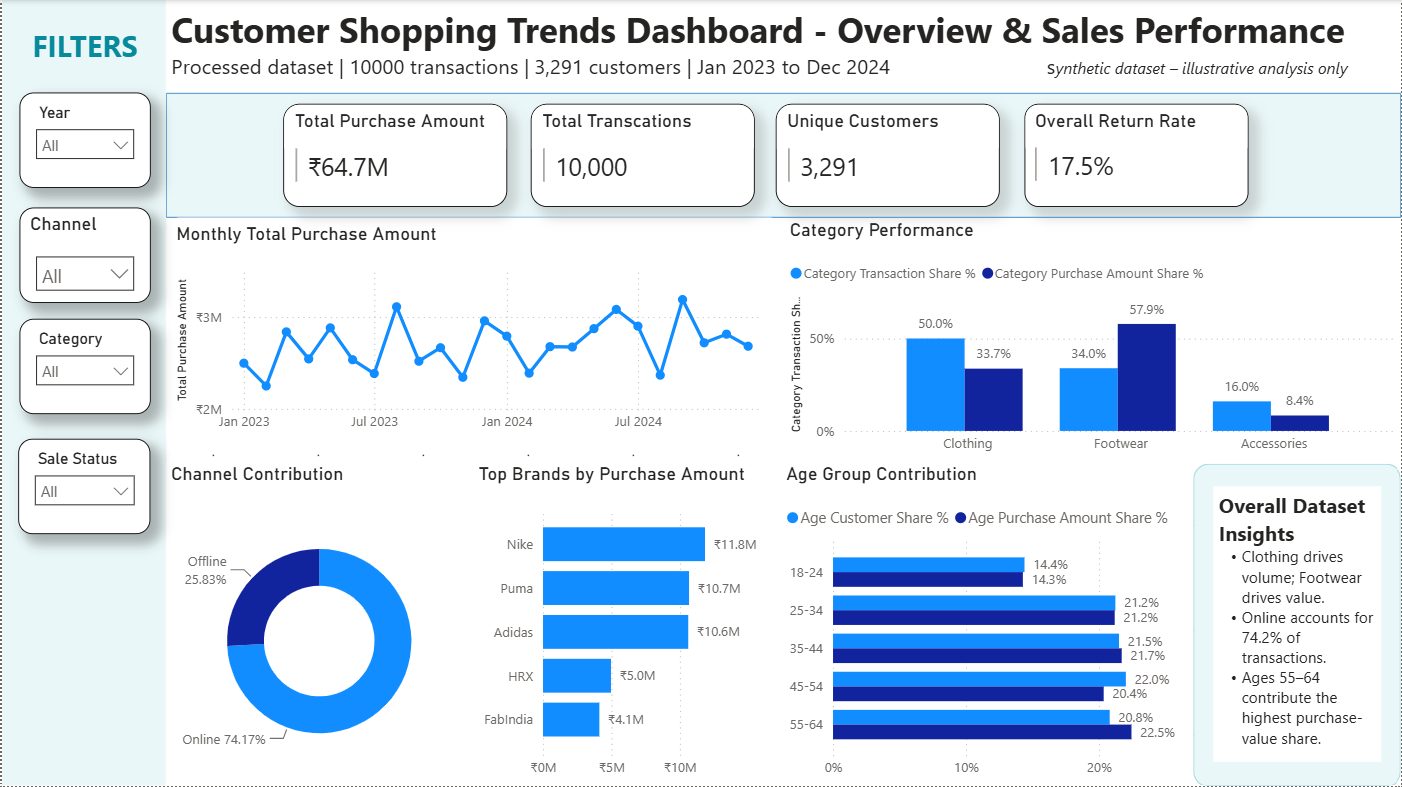

Layout of this report page (visuals, bound fields, positions):
{"tool":"powerbi","page":{"name":"Overview & Sales Performance","canvas":[1280,720],"ordinal":0},"visuals":[{"type":"shape","box":[149.6,84.8,1130.8,114.7],"z":0},{"type":"shape","box":[0,0,150.3,719.3],"z":1000},{"type":"textbox","box":[149.6,0,1130.2,84.6],"z":2000},{"type":"lineChart","title":"Monthly Total Purchase Amount","fields":{"Y":["ShoppingData.Total Purchase Amount"],"Category":["ShoppingData.Month Start"]},"box":[150.3,199,564.9,210.1],"z":3000},{"type":"clusteredColumnChart","title":"Category Performance","fields":{"Category":["ShoppingData.Category"],"Y":["ShoppingData.Category Transaction Share %","ShoppingData.Category Purchase Amount Share %"]},"box":[715.6,199.5,564.9,224],"z":4000},{"type":"donutChart","title":"Channel Contribution","fields":{"Category":["ShoppingData.Online/Offline"],"Y":["ShoppingData.Total Transactions"]},"box":[150.3,423,281,296.3],"z":5000},{"type":"clusteredBarChart","title":"Top Brands by Purchase Amount","fields":{"Category":["ShoppingData.Brand"],"Y":["ShoppingData.Total Purchase Amount"]},"box":[430.9,423.1,281.1,296.7],"z":6000},{"type":"clusteredBarChart","title":"Age Group Contribution","fields":{"Category":["ShoppingData.Age Group"],"Y":["ShoppingData.Age Customer Share %","ShoppingData.Age Purchase Amount Share %"]},"box":[711.9,422.6,377.8,296.7],"z":7000},{"type":"textbox","box":[21.2,18.7,108.5,45.9],"z":8000},{"type":"slicer","fields":{"Values":["ShoppingData.Month Start.Variation.Date Hierarchy.Year"]},"box":[16.2,84.8,119.7,87.3],"z":9000},{"type":"shape","box":[1089.7,423.9,190.8,295.5],"z":10000},{"type":"textbox","box":[1107.1,445.1,153.4,251.8],"z":11000},{"type":"group","id":"g1","title":"Group 1","box":[256.8,94.8,881.5,94.8],"z":12000},{"type":"multiRowCard","title":"Total Transcations","fields":{"Values":["ShoppingData.Total Transactions"]},"box":[483.6,94.8,204.5,94.6],"z":13000,"group":"g1"},{"type":"slicer","title":"Channel","fields":{"Values":["ShoppingData.Online/Offline"]},"box":[16.2,189.5,119.7,87.3],"z":13000},{"type":"multiRowCard","title":"Unique Customers","fields":{"Values":["ShoppingData.Unique Customers"]},"box":[707.6,94.8,204.5,94.6],"z":14000,"group":"g1"},{"type":"slicer","fields":{"Values":["ShoppingData.Category"]},"box":[16.2,291.7,119.7,87.3],"z":14000},{"type":"multiRowCard","title":"Overall Return Rate","fields":{"Values":["ShoppingData.Overall Return Rate"]},"box":[934.4,94.8,204.5,94.6],"z":15000,"group":"g1"},{"type":"slicer","fields":{"Values":["ShoppingData.Sale Status"]},"box":[15,401.5,120.9,87.3],"z":15000},{"type":"multiRowCard","title":"Total Purchase Amount","fields":{"Values":["ShoppingData.Total Purchase Amount (M)"]},"box":[256.8,94.8,204.5,94.6],"z":16000,"group":"g1"}]}

Visuals, with their boxes in screenshot pixels (x1, y1, x2, y2), scaled from the page's 1280x720 canvas onto the 1402x787 screenshot:
shape: <region>164, 93, 1401, 218</region>
shape: <region>0, 0, 165, 786</region>
textbox: <region>164, 0, 1401, 92</region>
"Monthly Total Purchase Amount" lineChart: <region>165, 218, 783, 447</region>
"Category Performance" clusteredColumnChart: <region>784, 218, 1401, 463</region>
"Channel Contribution" donutChart: <region>165, 462, 472, 786</region>
"Top Brands by Purchase Amount" clusteredBarChart: <region>472, 462, 780, 786</region>
"Age Group Contribution" clusteredBarChart: <region>780, 462, 1194, 786</region>
textbox: <region>23, 20, 142, 71</region>
slicer - ShoppingData.Month Start.Variation.Date Hierarchy.Year: <region>18, 93, 149, 188</region>
shape: <region>1194, 463, 1401, 786</region>
textbox: <region>1213, 487, 1381, 762</region>
"Group 1" group: <region>281, 104, 1247, 207</region>
"Total Transcations" multiRowCard: <region>530, 104, 754, 207</region>
"Channel" slicer: <region>18, 207, 149, 303</region>
"Unique Customers" multiRowCard: <region>775, 104, 999, 207</region>
slicer - ShoppingData.Category: <region>18, 319, 149, 414</region>
"Overall Return Rate" multiRowCard: <region>1023, 104, 1247, 207</region>
slicer - ShoppingData.Sale Status: <region>16, 439, 149, 534</region>
"Total Purchase Amount" multiRowCard: <region>281, 104, 505, 207</region>
